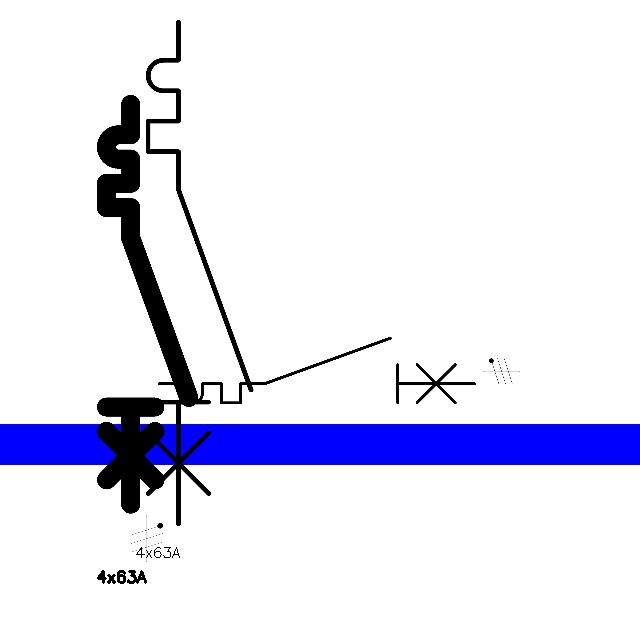interruptor_termomagnetico: (135, 9, 264, 536), (96, 94, 199, 514), (151, 330, 482, 411)
